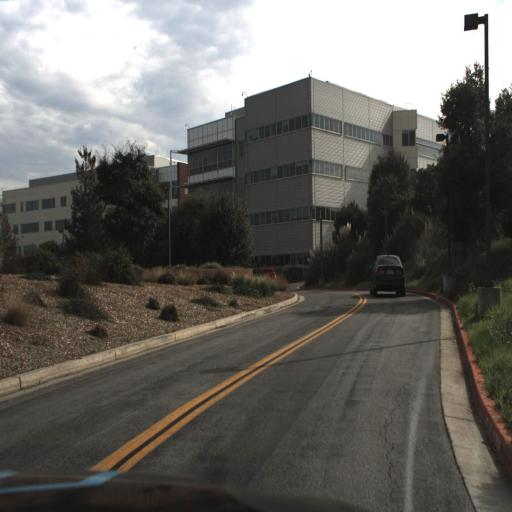car: (367, 253, 407, 302), (254, 265, 278, 288)
